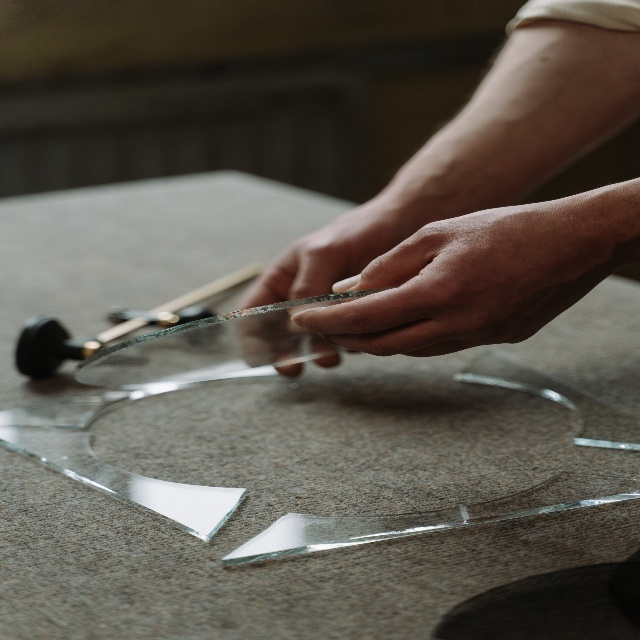Sin_guantes: (290, 194, 606, 359), (237, 201, 399, 377)
